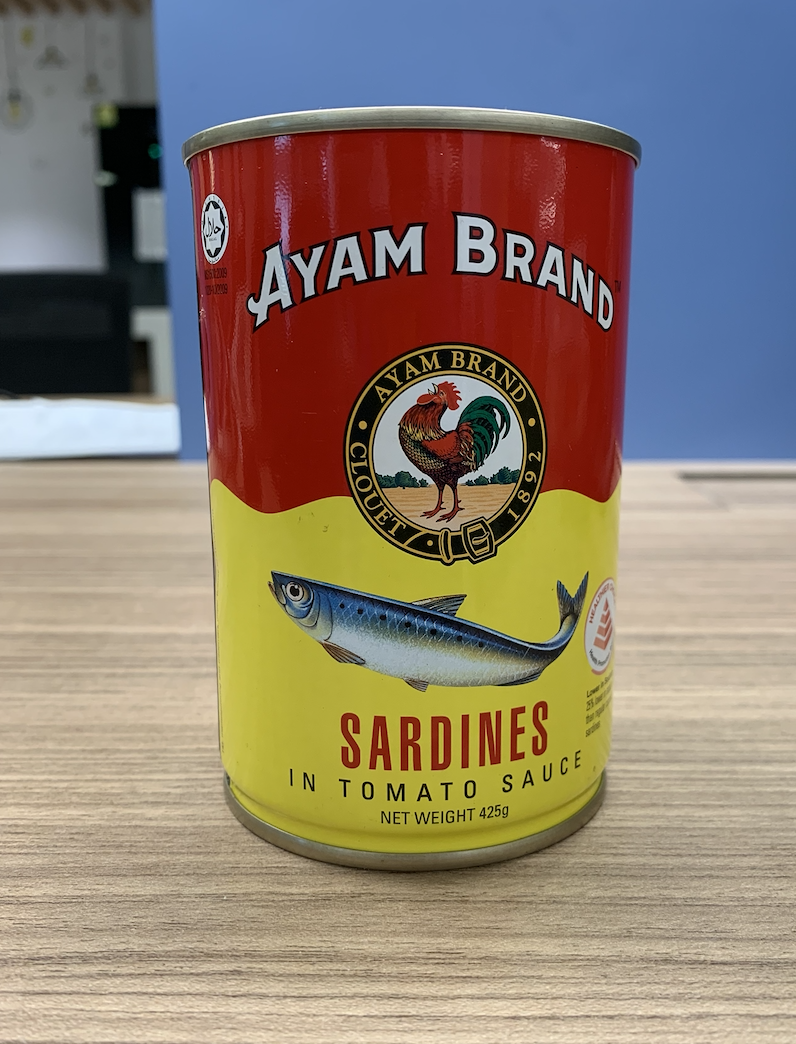sardines_450g: (202, 151, 615, 838)
